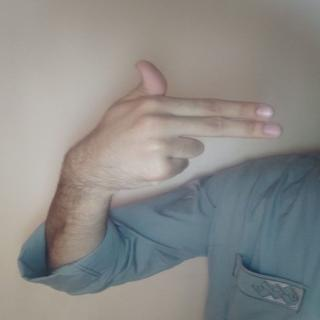GHAYN: (54, 52, 291, 192)
